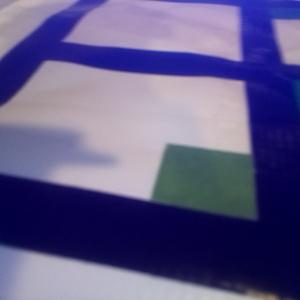top_left: (150, 143, 300, 274)
